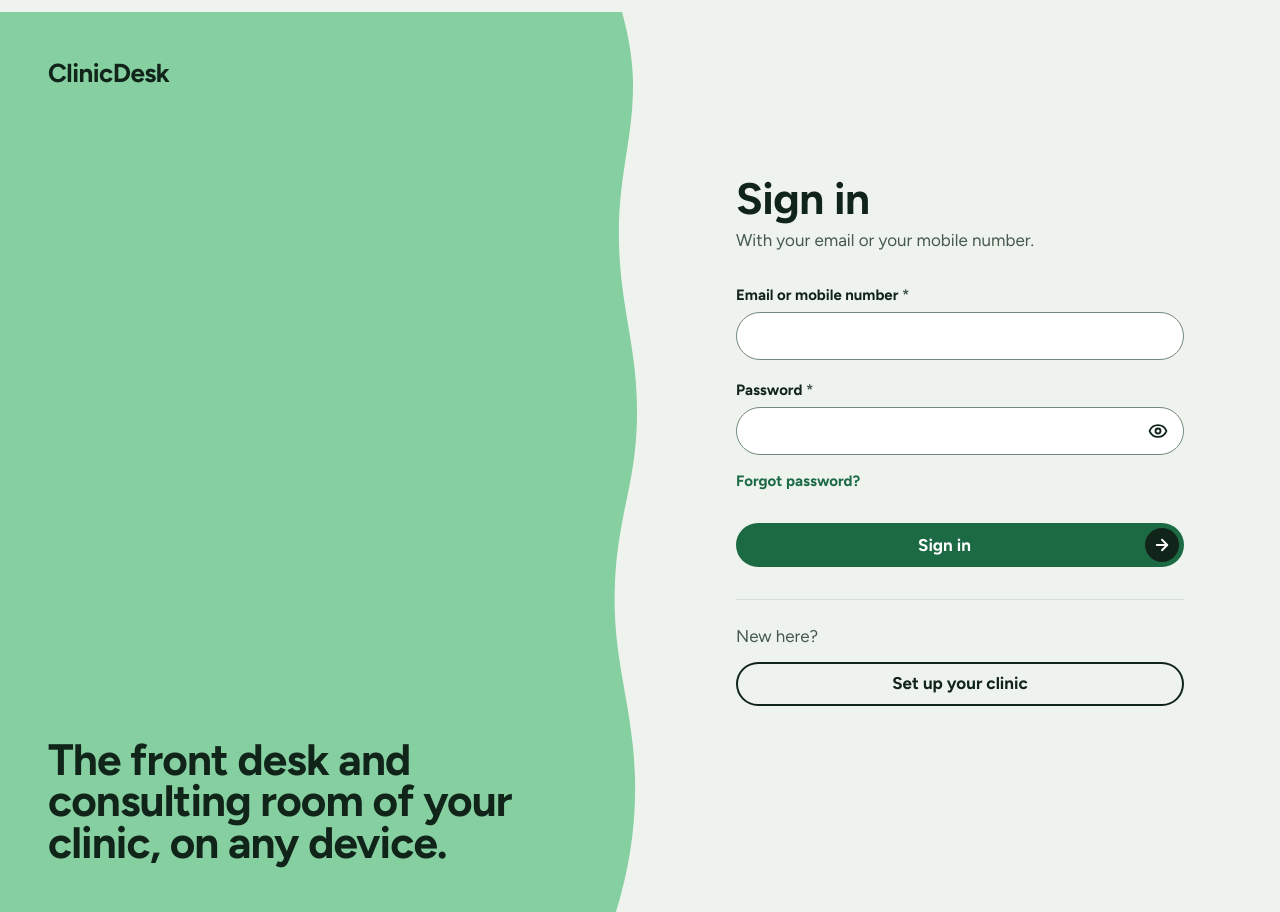
Test case: SignInScreen › says what is missing beside each field, and sends nothing
Click the button "Sign in" at (960,545), box 736,523 -> 1184,567
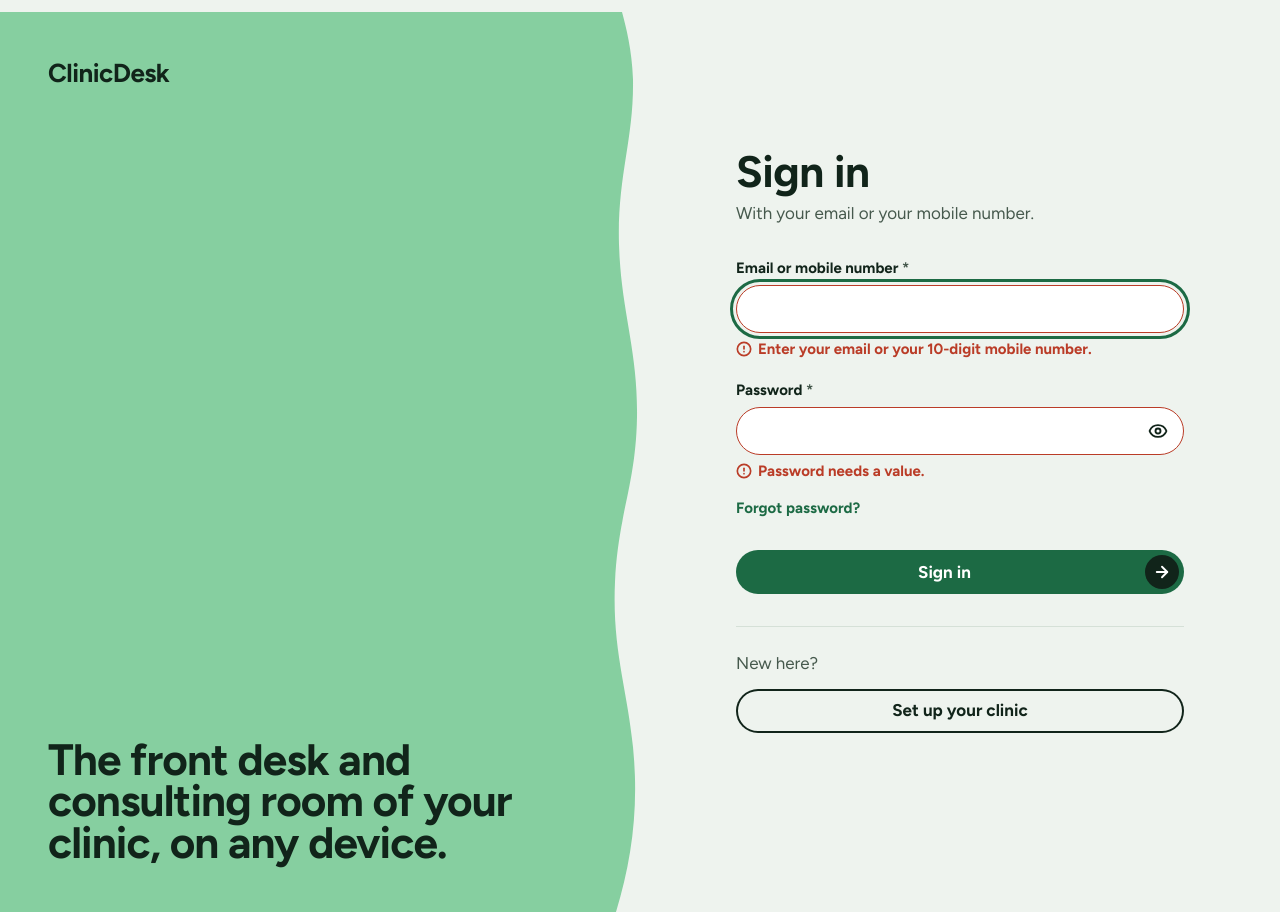
Now the text "Enter your email or your 10-digit mobile number." is shown, box 736,340 -> 1092,358
Now the text "Password needs a value." is shown, box 736,462 -> 925,480
